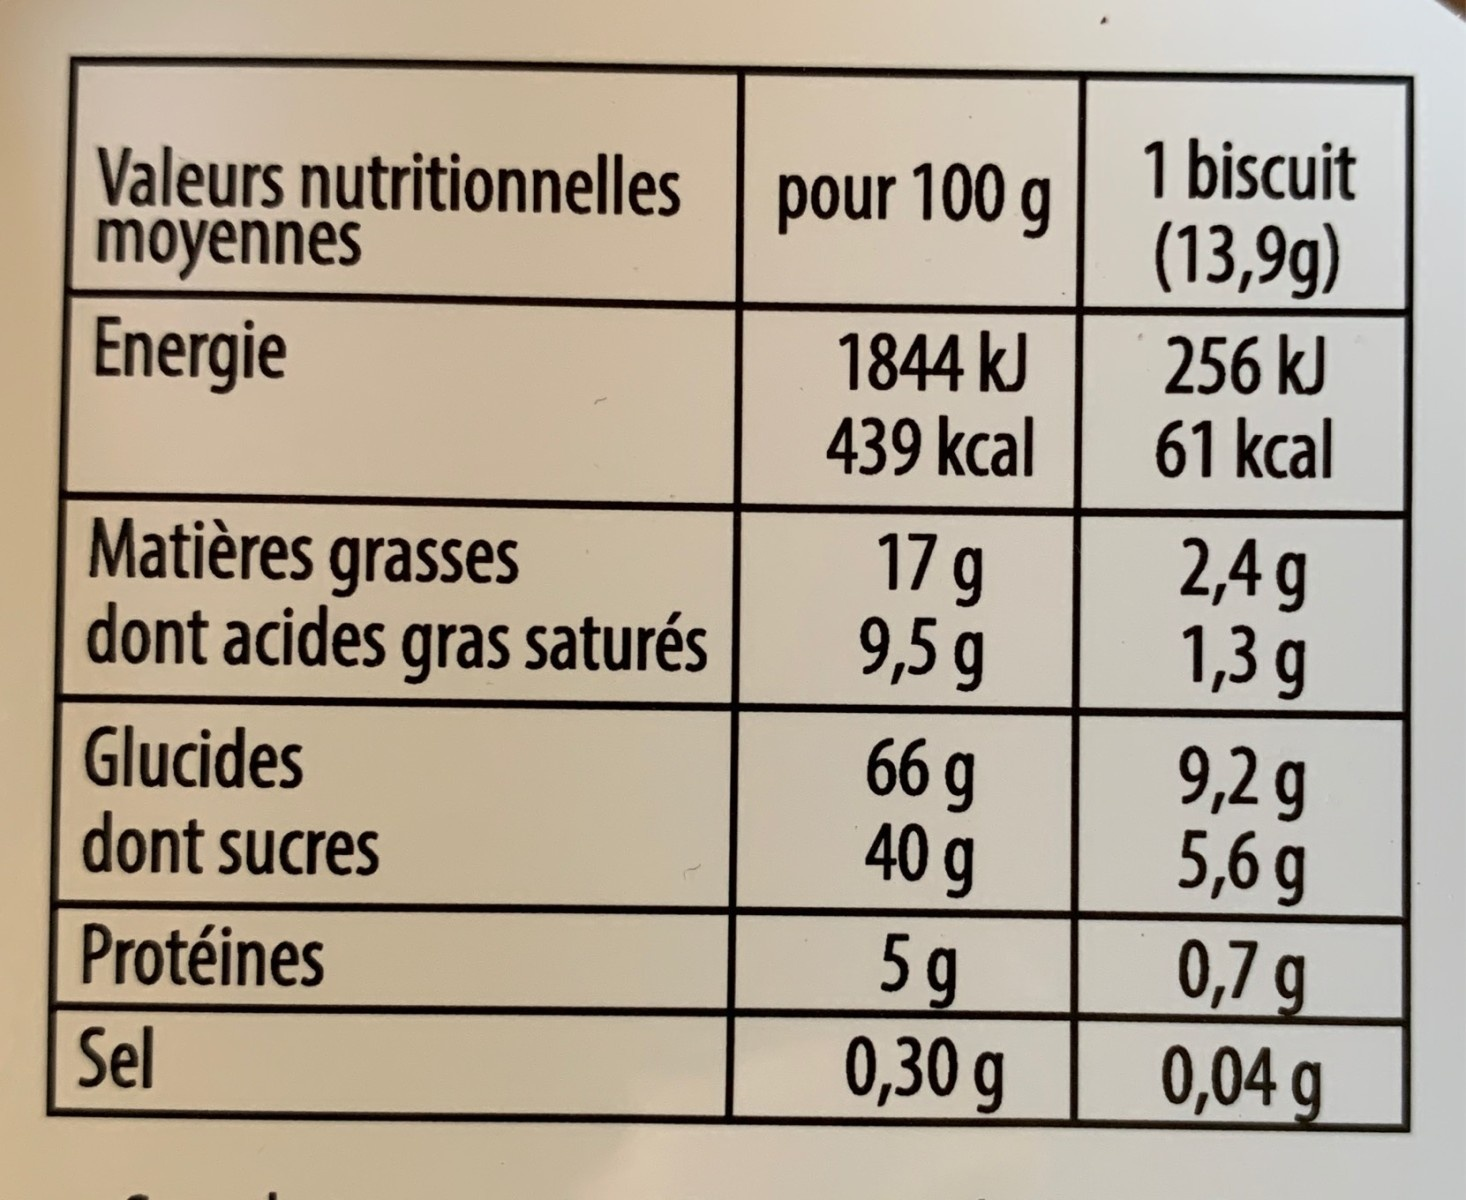column: (69, 130, 712, 1099), (774, 138, 1050, 1112), (1143, 138, 1361, 1118)
table: (50, 54, 1414, 1129)
